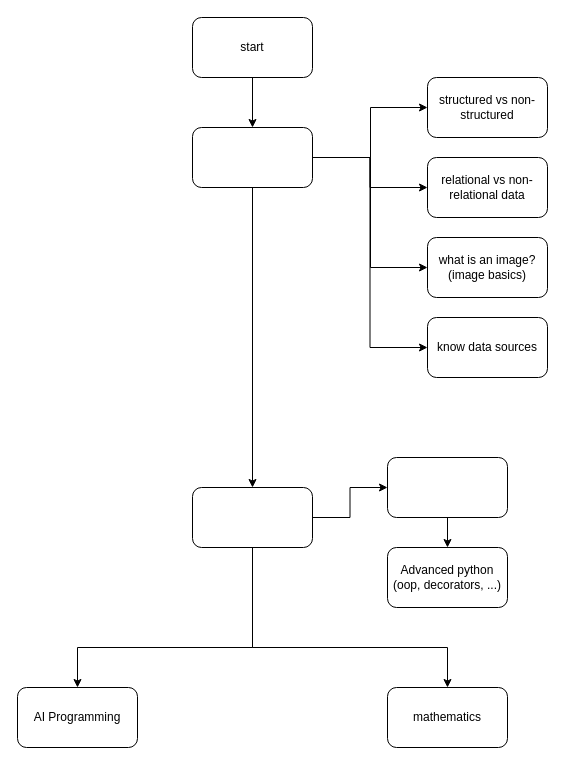
Some shapes in this 565 by 765 pixel diagram are drawn without their labels. The box of each missing label's shape, as (x1, y1, x2, y2) in pixels:
learn what is data?: (192, 126, 312, 188)
python basics: (386, 456, 508, 518)
python programming: (192, 486, 312, 548)
